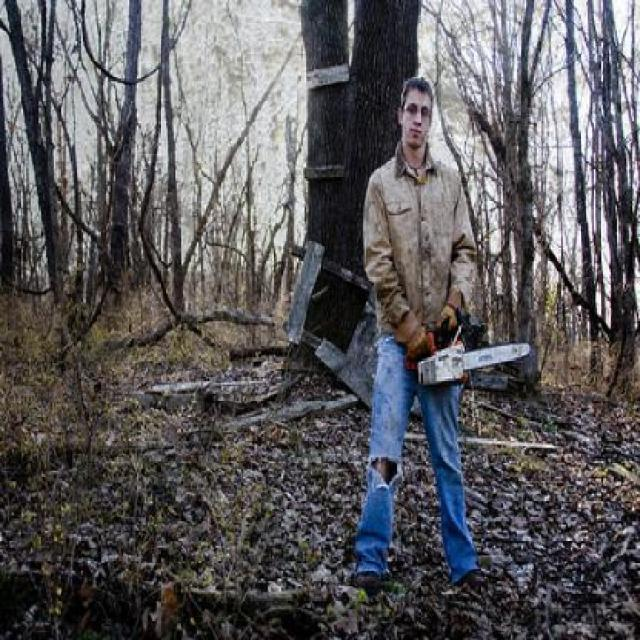Chainsaw: (414, 327, 534, 396)
